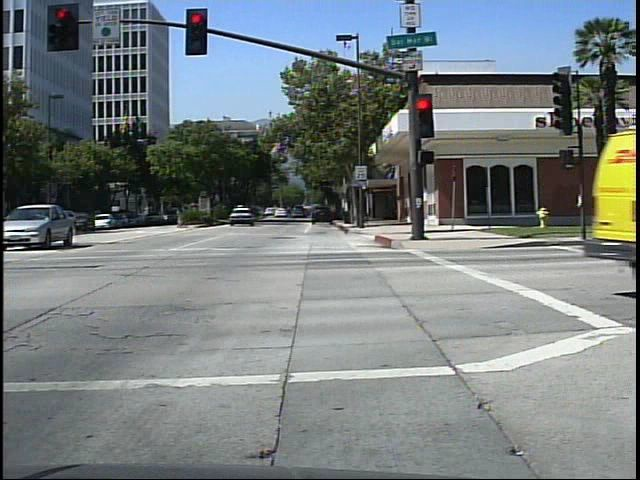person: (284, 204, 297, 222)
